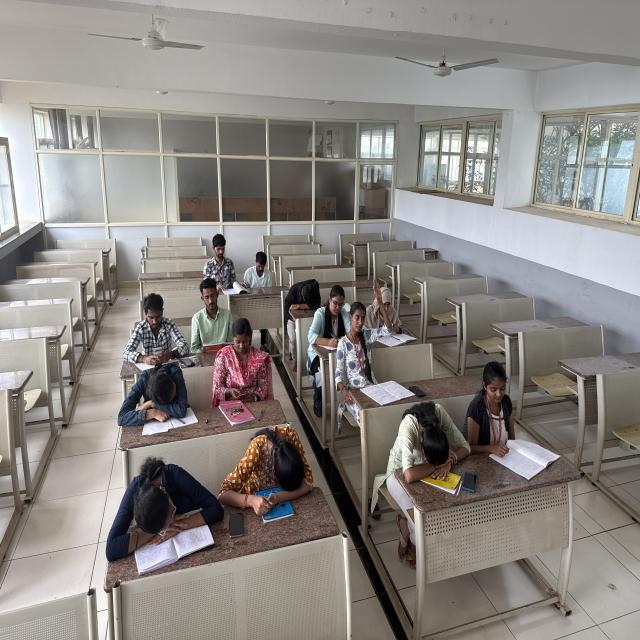Hand Rising: (346, 276, 384, 385)
Reading: (192, 272, 235, 354), (200, 227, 245, 297)
Sleeping: (96, 445, 216, 538), (238, 420, 326, 493), (389, 398, 470, 474), (116, 359, 195, 421), (272, 268, 326, 316)
Using Phone: (218, 320, 280, 408), (124, 287, 186, 364), (381, 274, 417, 335), (244, 244, 276, 288)
Writing: (468, 355, 528, 463), (314, 280, 349, 354)
